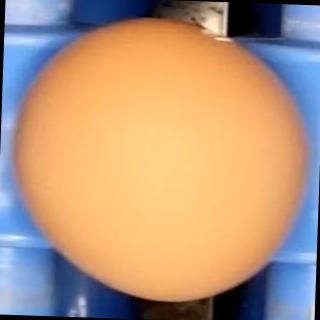Telur: (7, 16, 315, 311)
